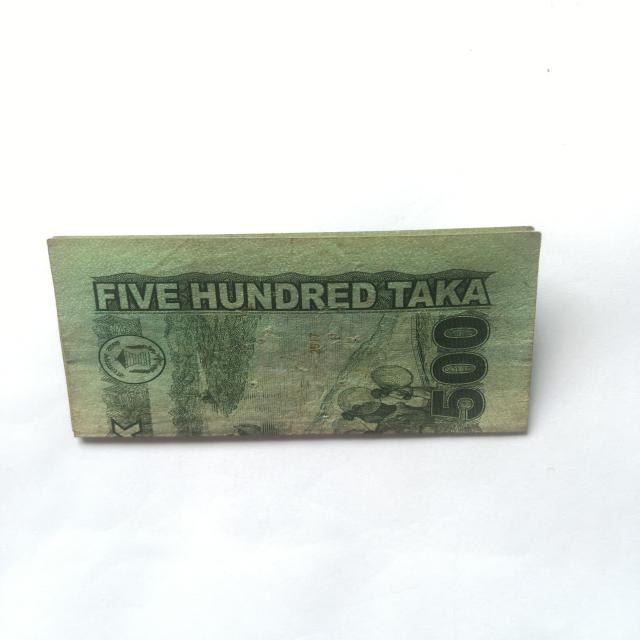Taka: (36, 227, 539, 440)
